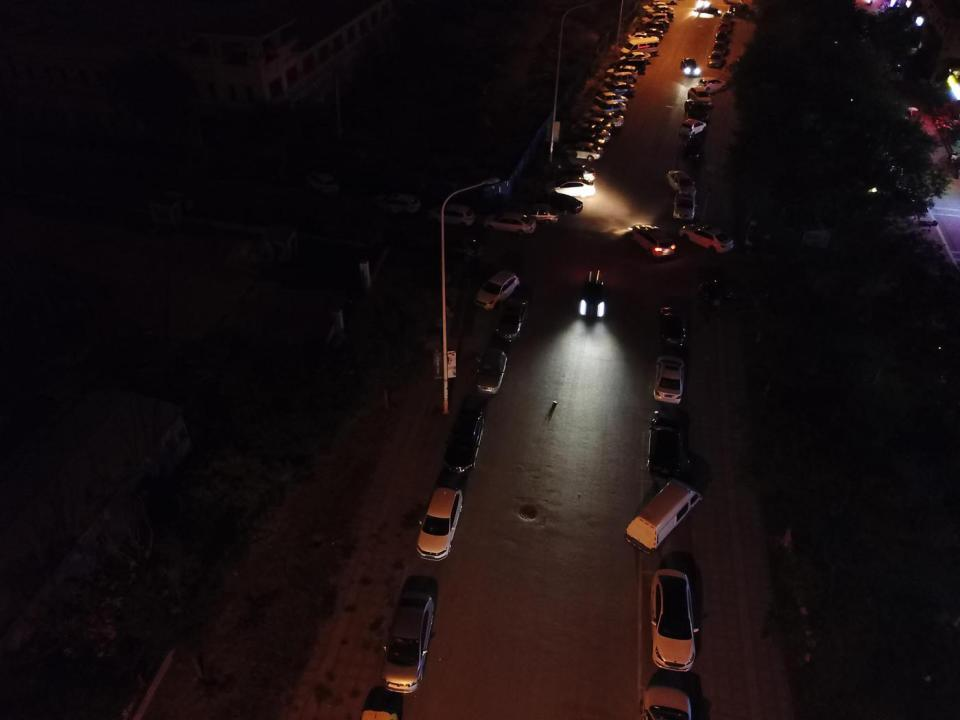car: (380, 588, 436, 694), (649, 565, 698, 673), (417, 484, 463, 560), (444, 401, 486, 475), (649, 415, 684, 478), (698, 276, 769, 306), (474, 268, 522, 310), (652, 352, 688, 406), (494, 292, 530, 343), (474, 345, 509, 396), (628, 224, 678, 257), (680, 222, 734, 252), (657, 305, 691, 351), (578, 274, 610, 319), (482, 211, 538, 236), (427, 202, 477, 227), (544, 176, 596, 199), (539, 193, 584, 217), (440, 236, 484, 260), (518, 203, 561, 226), (560, 141, 604, 163), (376, 193, 421, 214), (621, 37, 659, 58), (580, 110, 624, 128), (305, 172, 339, 195), (665, 168, 696, 193), (570, 124, 610, 143), (554, 166, 596, 184), (673, 188, 696, 220), (567, 131, 608, 146), (596, 82, 636, 97), (588, 100, 627, 115), (682, 134, 704, 160), (698, 75, 728, 94), (683, 99, 709, 120), (687, 85, 713, 106), (610, 57, 645, 72), (678, 118, 706, 136), (578, 118, 613, 132), (680, 56, 702, 78), (619, 51, 651, 66), (627, 31, 659, 46), (882, 62, 905, 82), (728, 3, 755, 20), (595, 93, 628, 106), (606, 67, 638, 80), (698, 3, 723, 18), (646, 5, 674, 18), (635, 29, 664, 41), (642, 14, 669, 26), (637, 23, 666, 34), (708, 51, 724, 68), (644, 19, 668, 30), (640, 2, 666, 12), (648, 11, 674, 21), (711, 40, 727, 55), (695, 0, 710, 13), (715, 31, 728, 44), (718, 21, 730, 34), (719, 11, 732, 23)
van: (624, 478, 704, 556), (884, 100, 917, 124), (604, 72, 634, 86)
